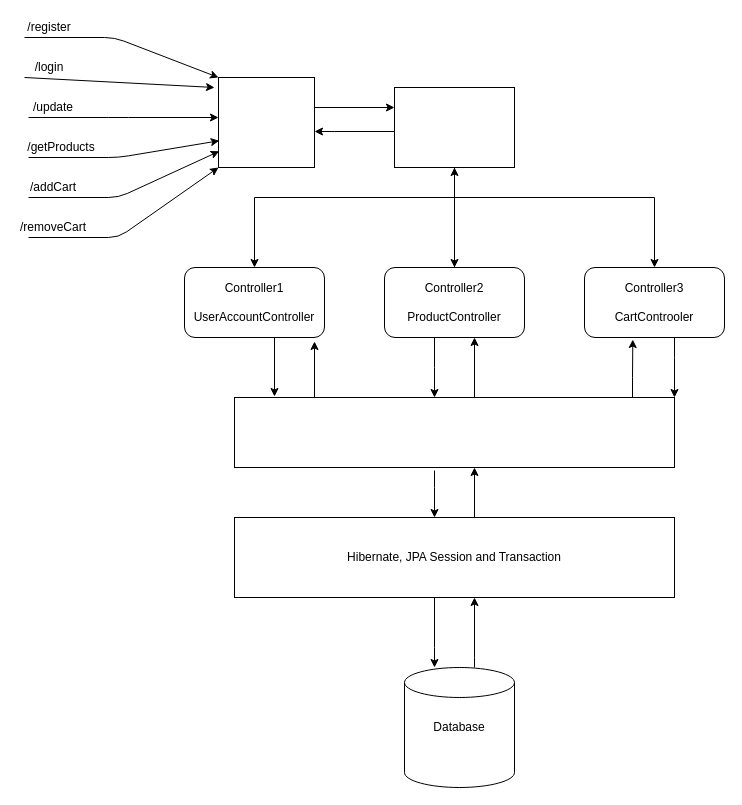
Some shapes in this 742 by 805 pixel diagram are drawn without their labels. The shapes that lost their labels are listed below. From the top down, each one's centre as x and y in pixels, then its label:
At [266,122]: "Web Container Tomcat".
At [454,127]: "DispatcherServlet FrontController".
At [454,432]: "Service Layer".
